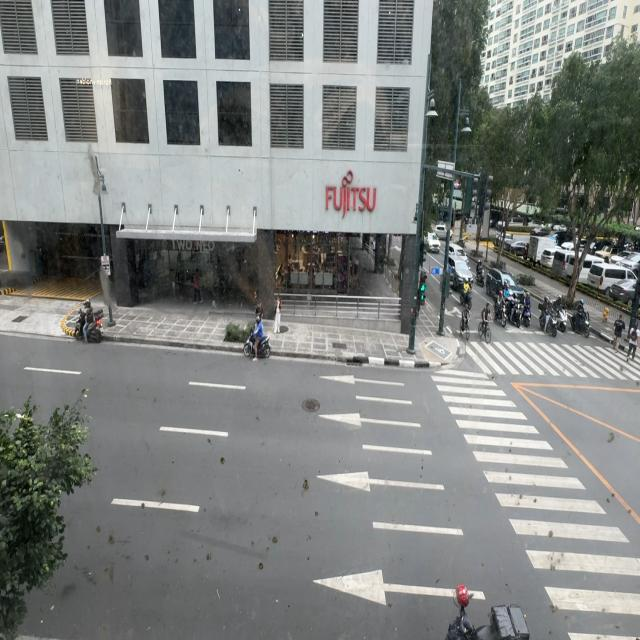crossing: (626, 321, 639, 363), (612, 315, 624, 351)
pedestrain: (192, 268, 202, 303), (273, 293, 281, 334), (254, 290, 263, 321)
